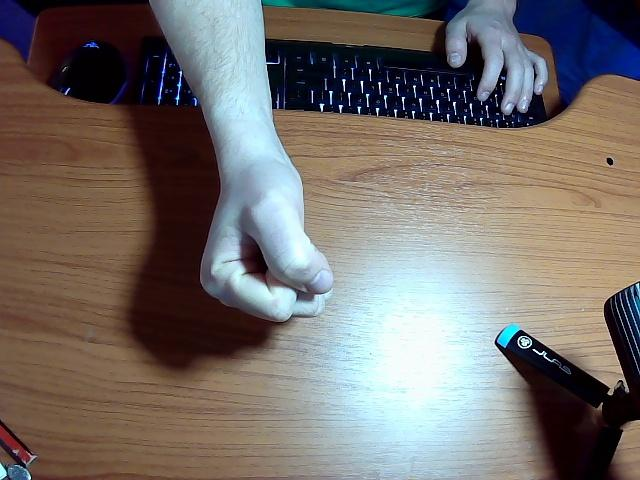rock: (151, 0, 334, 321)
